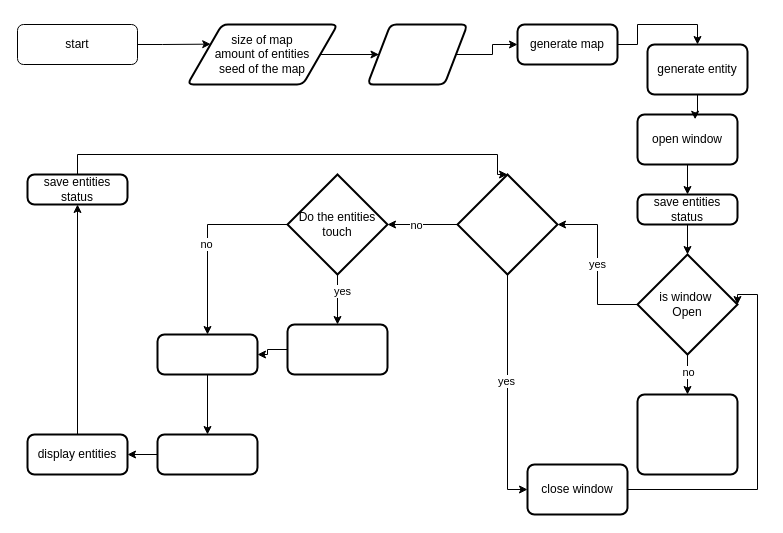
This 783x533 diagram has some shape labels left out. Here are the shapes that lost their labels. From the top down, the centre of each, then its label:
(417,54): amount of iteration
(507,224): Did all iteration passed?
(207,354): clear window
(337,349): event for those entities
(207,454): draw entities
(687,434): stop
